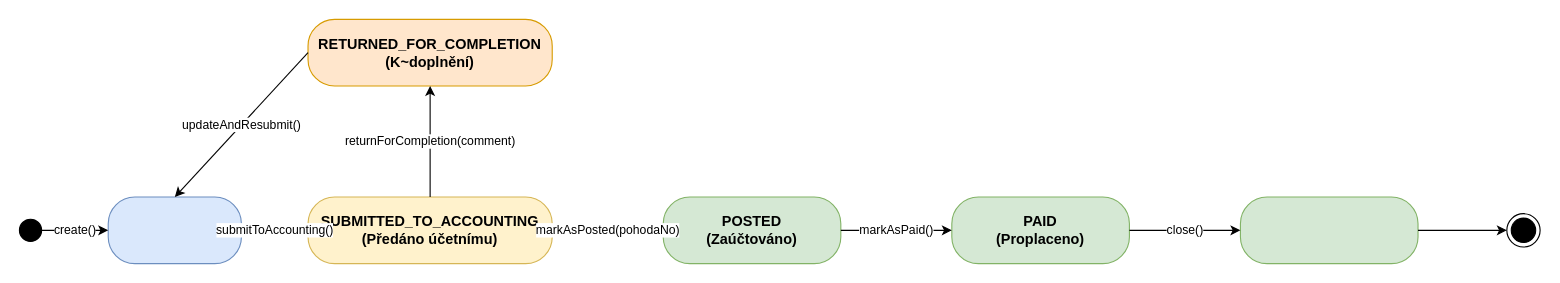
Some shapes in this 1560 by 283 pixel diagram are drawn without their labels. Each missing label, with the centre of its shape:
CLOSED (Uzavřeno): point 1328,230
NEW (Nový): point 174,230
